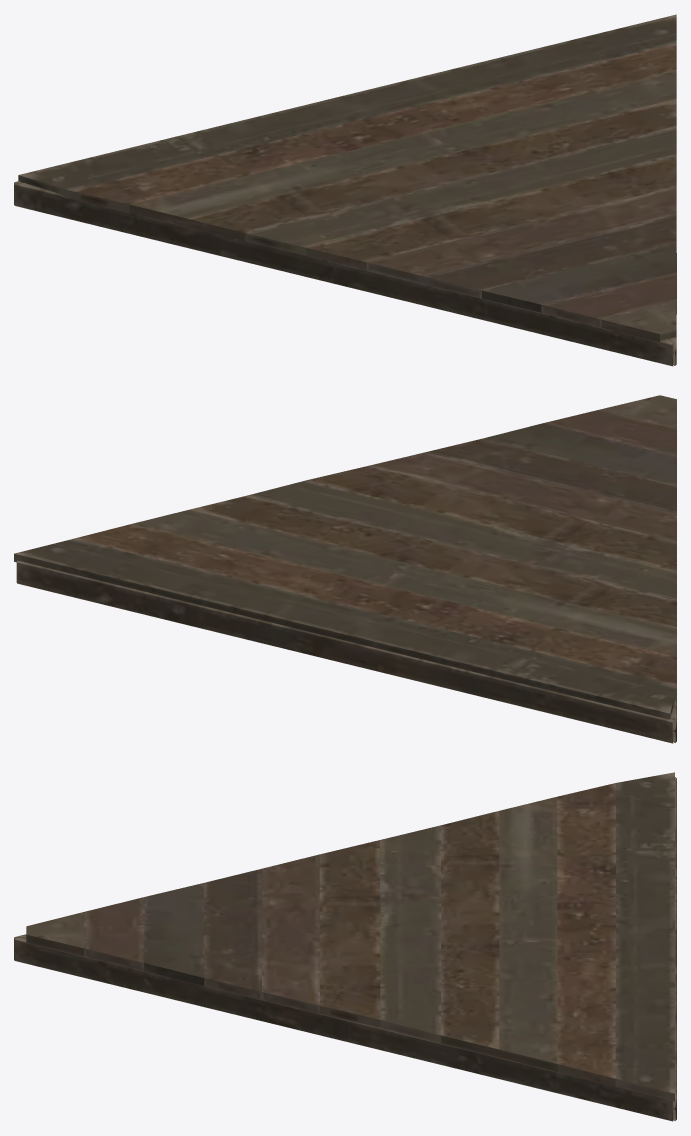
The model's file is floor.triangle.frontier_variant_b.glb.
3 views of the same model, one above another, from view 1: azimuth 30°, elevation 25°; view 2: azimuth 150°, elevation 25°; view 3: azimuth 270°, elevation 25° (orthographic).
Visible parts, largest first — view 1: floor.triangle_b_LOD0; view 2: floor.triangle_b_LOD0; view 3: floor.triangle_b_LOD0.
Part boxes in pixels (x1,y1,x2,y2): floor.triangle_b_LOD0: (14,14,676,366); floor.triangle_b_LOD0: (14,395,676,743); floor.triangle_b_LOD0: (14,772,676,1121).
Bounding box in the file's own units: 3 × 0.1349 × 2.59.
Materials: 1 (1 with a texture image).
